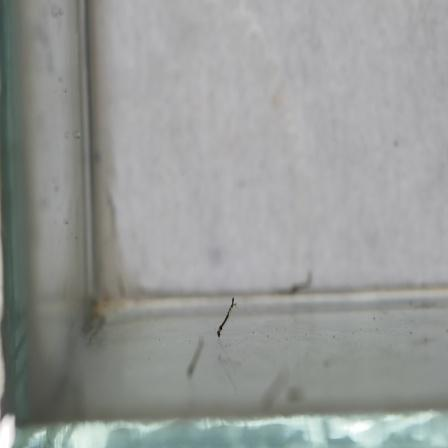Jentik-Nyamuk: (214, 293, 237, 341)
